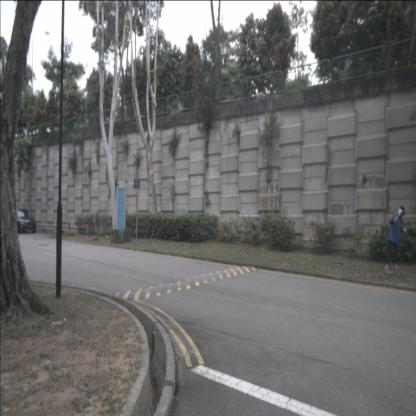human-pedestrian-adult: (386, 206, 416, 271)
vehicle-car: (6, 208, 36, 233)
